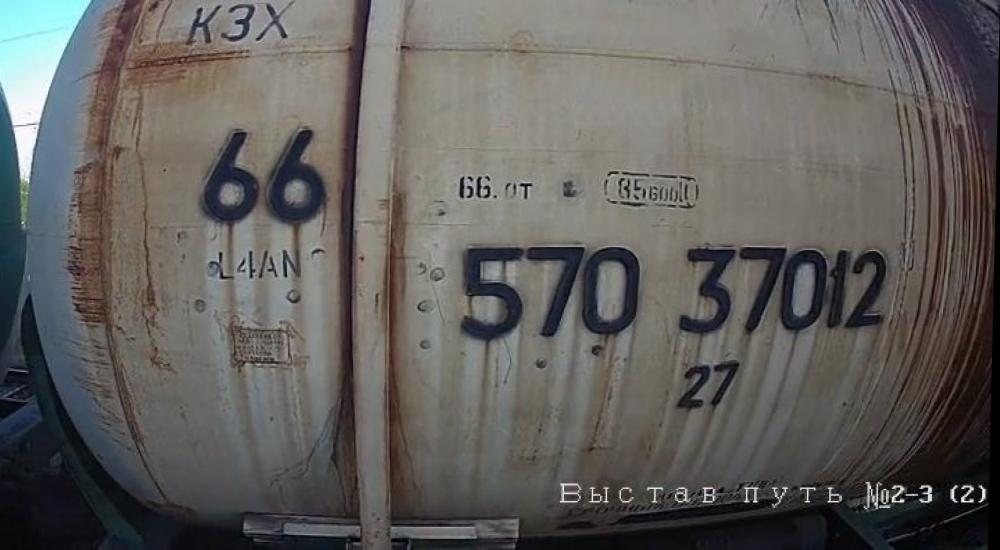Wagon-number: (454, 241, 890, 341)
